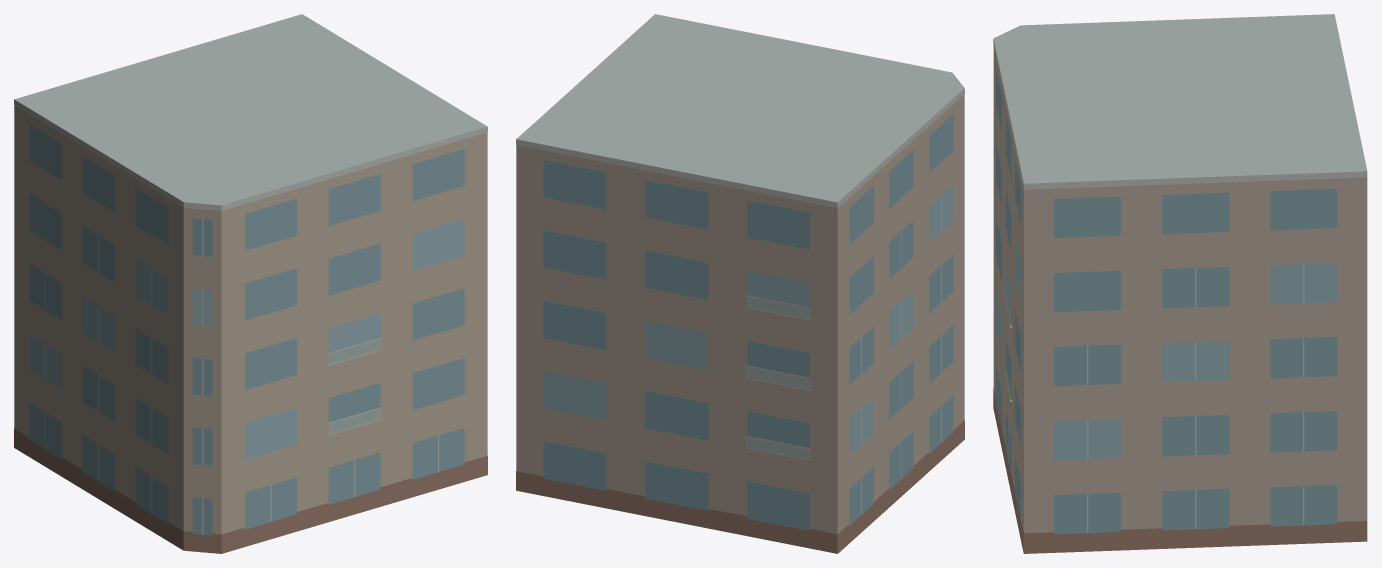
Rendered from survey-upis-32663631.glb.
3 views of the same model, side by side, from view 1: azimuth 30°, elevation 25°; view 2: azimuth 150°, elevation 25°; view 3: azimuth 270°, elevation 25° (orthographic). The views are drawn at different scales.
Visible parts, largest first — view 1: survey-upis-32663631.tmp; view 2: survey-upis-32663631.tmp; view 3: survey-upis-32663631.tmp.
Boxes of the visible parts, x1,y1,x2,y2 form: survey-upis-32663631.tmp: (14,14,487,553); survey-upis-32663631.tmp: (516,14,964,553); survey-upis-32663631.tmp: (993,14,1367,553).
Bounding box in the file's own units: 14.51 × 14.75 × 13.51.
